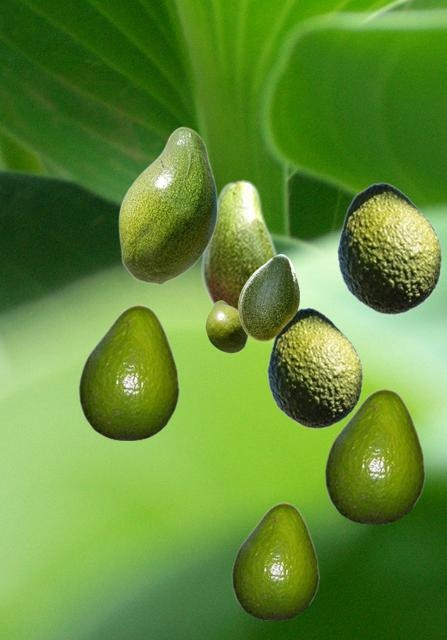avocado: (118, 126, 217, 284), (336, 182, 441, 314), (78, 304, 178, 439), (324, 388, 424, 523), (266, 307, 362, 428), (231, 502, 318, 619), (201, 178, 279, 308), (238, 254, 298, 340), (205, 300, 247, 352)
